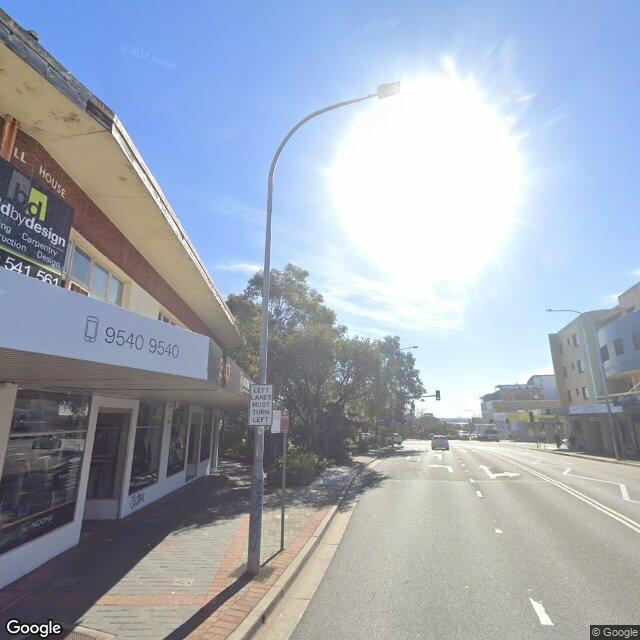steel-pole: (246, 177, 274, 579), (592, 326, 622, 460)
streetlight: (268, 79, 404, 188), (547, 308, 595, 329), (390, 345, 420, 356)
traffic-light: (435, 389, 441, 401)
